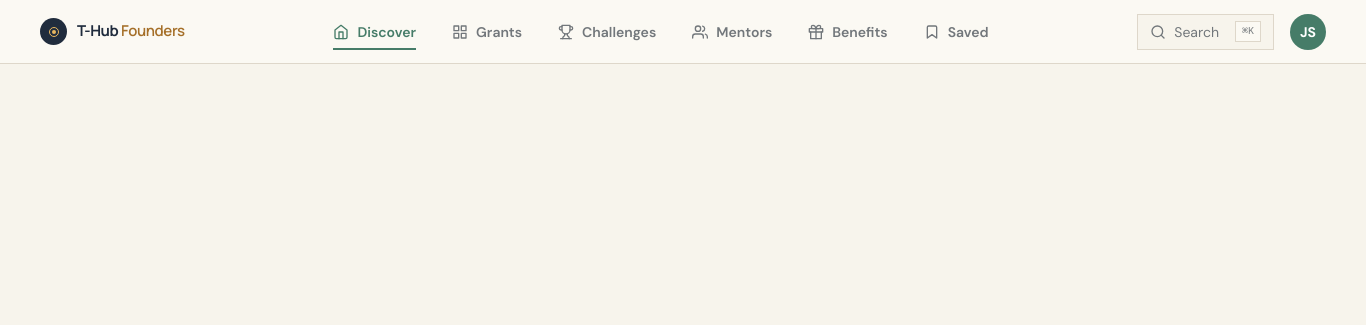
it: Header - User Menu › opens menu on avatar click
Click the button with aria-label "user menu" at (1308, 32), box [1290, 14, 1326, 50]
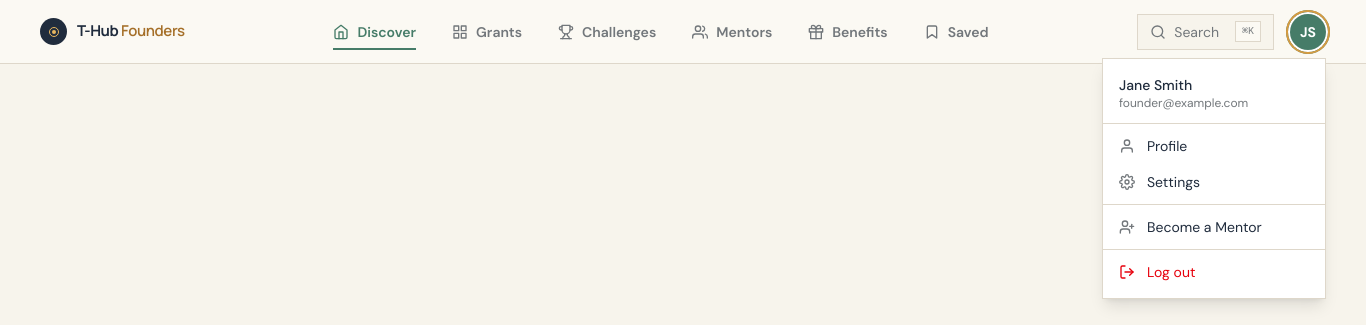
Expected: the menu is shown, [1102, 58, 1326, 298]
Expected: the menu item "Profile" is shown, [1119, 136, 1187, 154]
Expected: the menu item "Settings" is shown, [1119, 172, 1200, 190]
